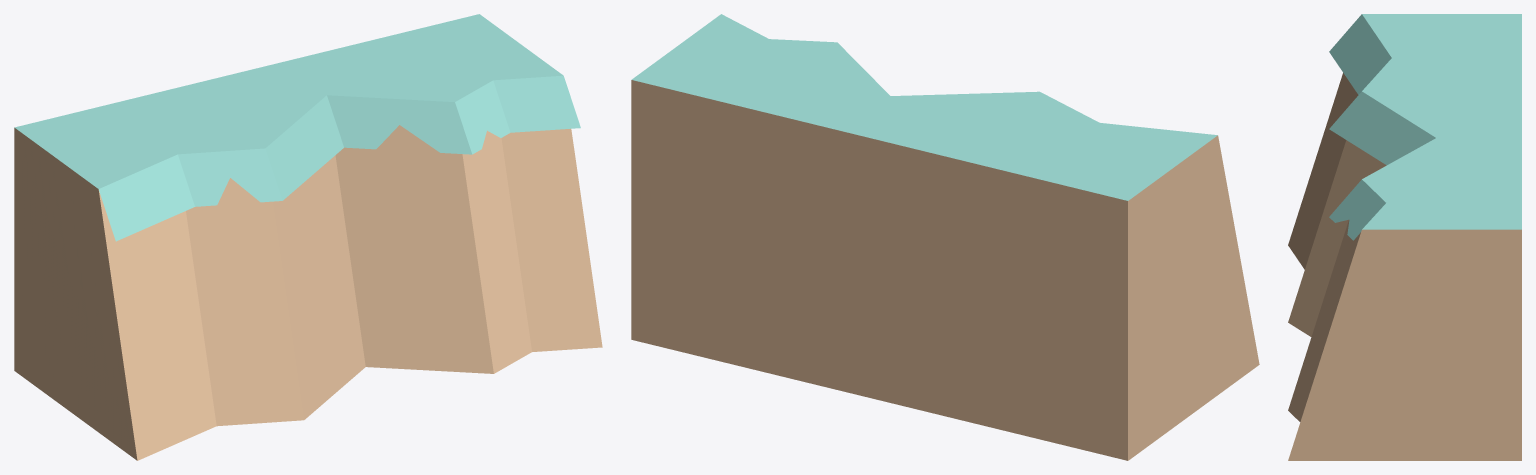
The model's file is cliffBrown_half.glb.
3 renders of one model, left to right at view 1: azimuth 30°, elevation 25°; view 2: azimuth 150°, elevation 25°; view 3: azimuth 270°, elevation 25°, orthographic. The views are drawn at different scales.
Parts seen in each view (by area): view 1: cliffBrown_half; view 2: cliffBrown_half; view 3: cliffBrown_half.
Boxes of the visible parts, x1,y1,x2,y2 form: cliffBrown_half: (14, 14, 602, 460); cliffBrown_half: (631, 14, 1259, 460); cliffBrown_half: (1288, 14, 1521, 460).
Bounding box in the file's own units: 1 × 0.5 × 0.4584.
